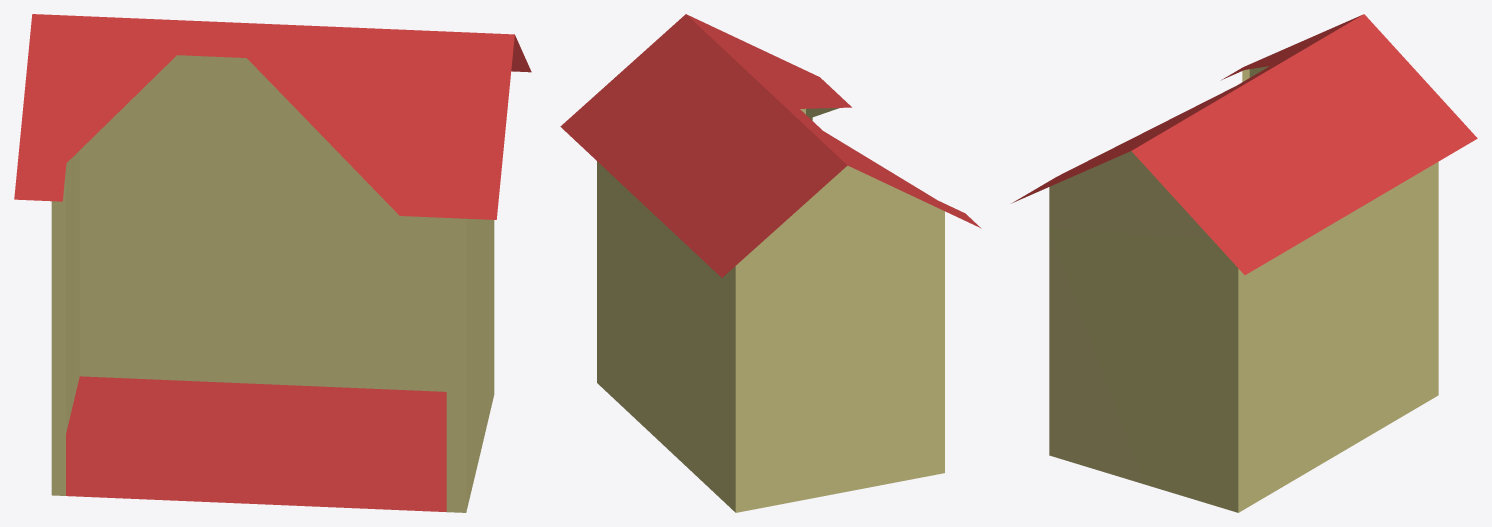
3 renders of one model, left to right at view 1: azimuth 30°, elevation 25°; view 2: azimuth 150°, elevation 25°; view 3: azimuth 270°, elevation 25°, orthographic. The views are drawn at different scales.
Bounding box in the file's own units: 13.17 × 12.5 × 10.15.
